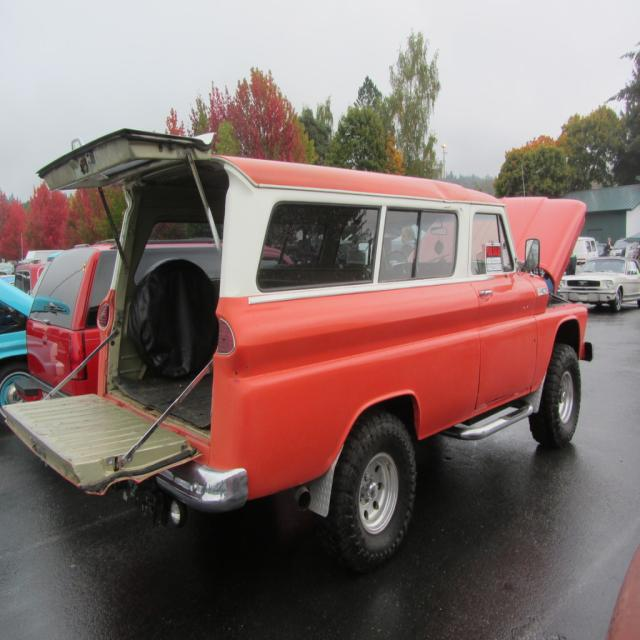car: (0, 127, 592, 570)
